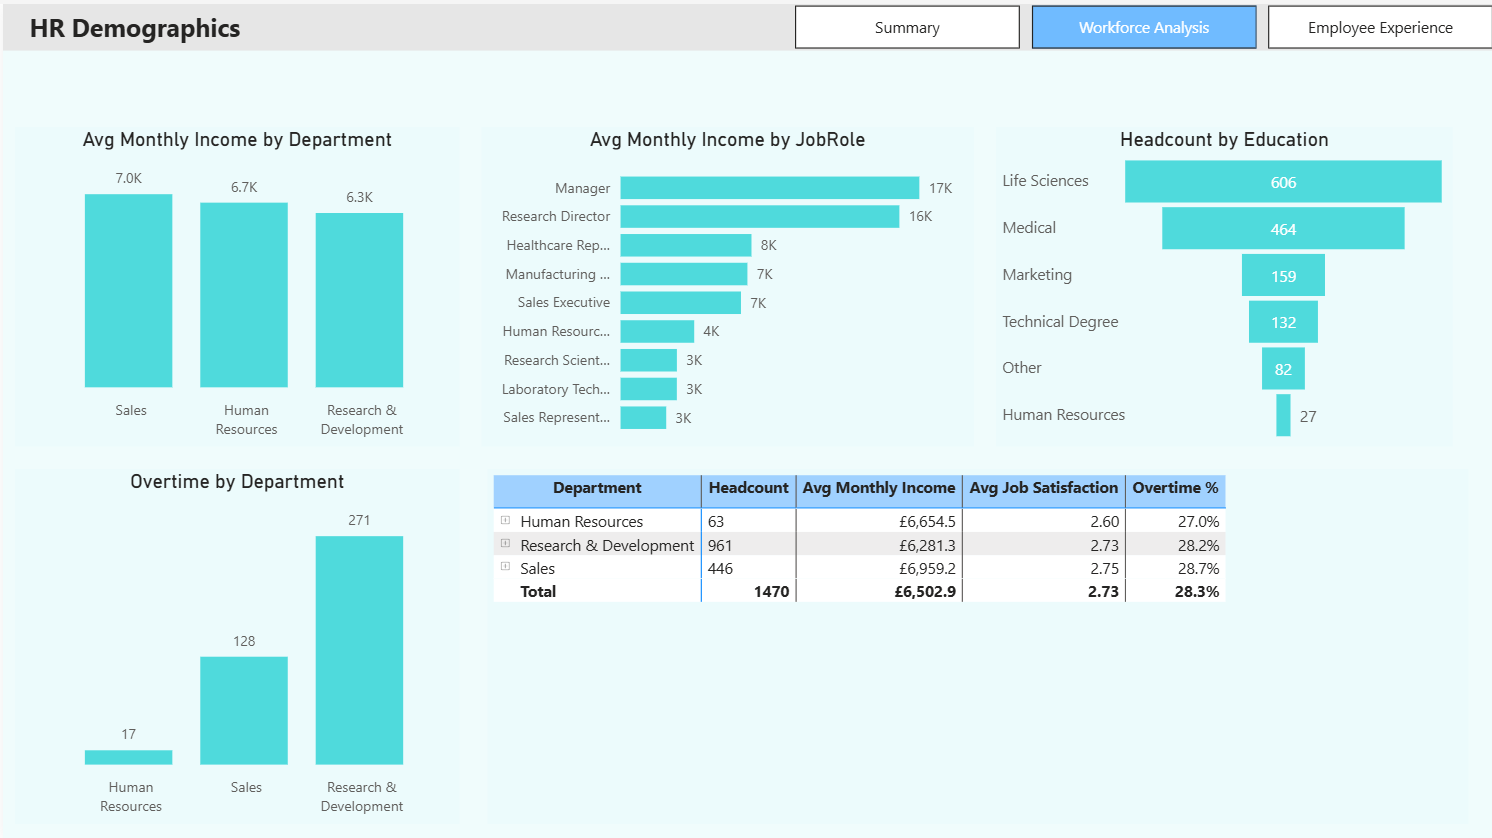

This screenshot's page, from the dashboard's own definition file:
{"tool":"powerbi","page":{"name":"Workforce Analysis","canvas":[1280,720],"ordinal":1},"visuals":[{"type":"clusteredColumnChart","fields":{"Category":["Attrition IBM.Department"],"Y":["Attrition IBM.Avg Monthly Income"]},"box":[10.6,105.5,381.6,274.1],"z":0},{"type":"barChart","fields":{"Y":["Attrition IBM.Avg Monthly Income"],"Category":["Attrition IBM.JobRole"]},"box":[411.1,105.5,422.5,274.1],"z":1000},{"type":"funnel","fields":{"Category":["Attrition IBM.EducationField"],"Y":["CountNonNull(Attrition IBM.EmployeeCount)"]},"box":[852.5,105.5,392.2,274.1],"z":2000},{"type":"clusteredColumnChart","fields":{"Category":["Attrition IBM.Department","Attrition IBM.JobRole"],"Y":["CountNonNull(Attrition IBM.EmployeeCount)"]},"box":[10.6,399.2,381.6,304.4],"z":3000},{"type":"pivotTable","fields":{"Rows":["Attrition IBM.Department","Attrition IBM.JobRole"],"Values":["CountNonNull(Attrition IBM.EmployeeCount)","Attrition IBM.Avg Monthly Income","Attrition IBM.Avg Job Satisfaction","Attrition IBM.Overtime %"]},"box":[416.4,399.2,841.9,304.4],"z":4000},{"type":"textbox","box":[0,0,1280.4,39.8],"z":14000},{"type":"pageNavigator","box":[679.9,1.5,599.6,37.9],"z":16000}]}

Visuals, with their boxes in screenshot pixels (x1, y1, x2, y2), scaled from the page's 1280x720 canvas onto the 1492x838 screenshot:
clusteredColumnChart - Attrition IBM.Department x Attrition IBM.Avg Monthly Income: (12, 123, 457, 442)
barChart - Attrition IBM.Avg Monthly Income x Attrition IBM.JobRole: (479, 123, 972, 442)
funnel - Attrition IBM.EducationField x CountNonNull(Attrition IBM.EmployeeCount): (994, 123, 1451, 442)
clusteredColumnChart - Attrition IBM.Department x Attrition IBM.JobRole: (12, 465, 457, 819)
pivotTable - Attrition IBM.Department x Attrition IBM.JobRole: (485, 465, 1467, 819)
textbox: (0, 0, 1491, 46)
pageNavigator: (793, 2, 1491, 46)
